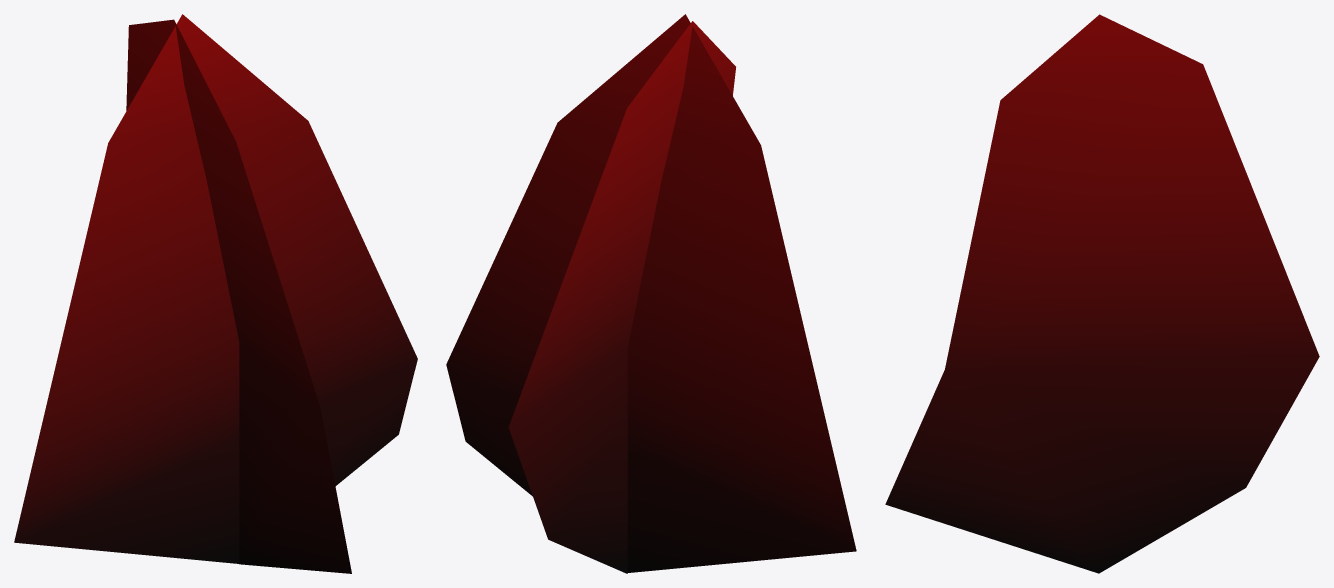
File: Greater Burdock_LOD6_Var1_xh5pdgiqx.fbx
3 renders of one model, left to right at view 1: azimuth 30°, elevation 25°; view 2: azimuth 150°, elevation 25°; view 3: azimuth 270°, elevation 25°, orthographic. The views are drawn at different scales.
Parts seen in each view (by area): view 1: _bkal_Var1_LOD6; view 2: _bkal_Var1_LOD6; view 3: _bkal_Var1_LOD6.
Boxes of the visible parts, x1,y1,x2,y2 form: _bkal_Var1_LOD6: (14,14,417,573); _bkal_Var1_LOD6: (446,14,856,573); _bkal_Var1_LOD6: (885,14,1319,573).
Bounding box in the file's own units: 84.14 × 112 × 82.95.
